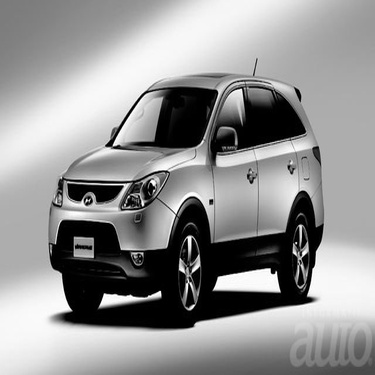car: (42, 51, 326, 323)
